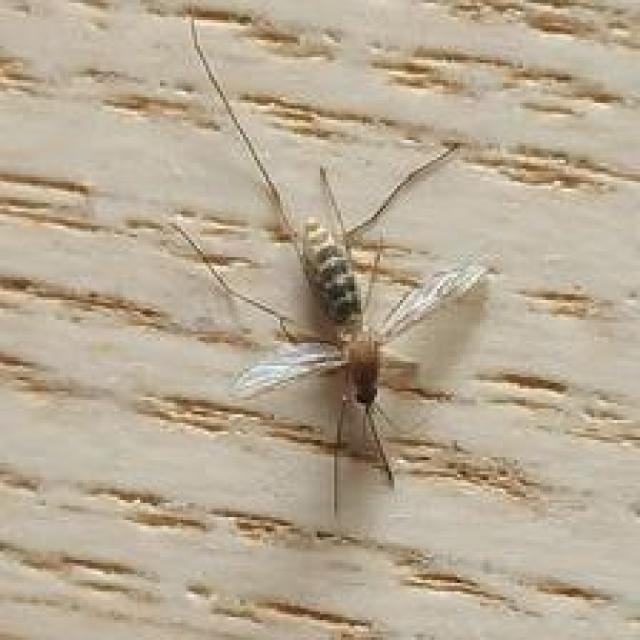Culex: (164, 3, 493, 517)
